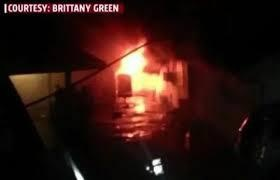fire: (114, 44, 161, 95)
